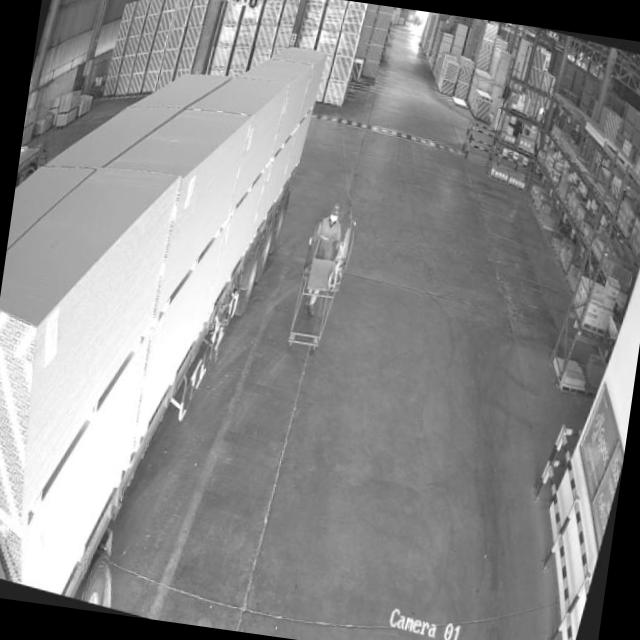person: (306, 197, 352, 268)
